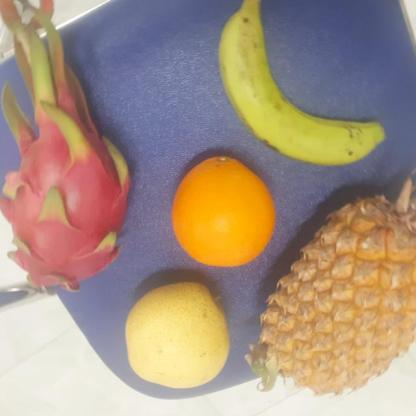banana: (216, 0, 378, 166)
orange: (168, 156, 275, 267)
pear: (122, 285, 236, 393)
pineapple: (256, 191, 416, 396)
pitaya: (0, 107, 130, 288)
